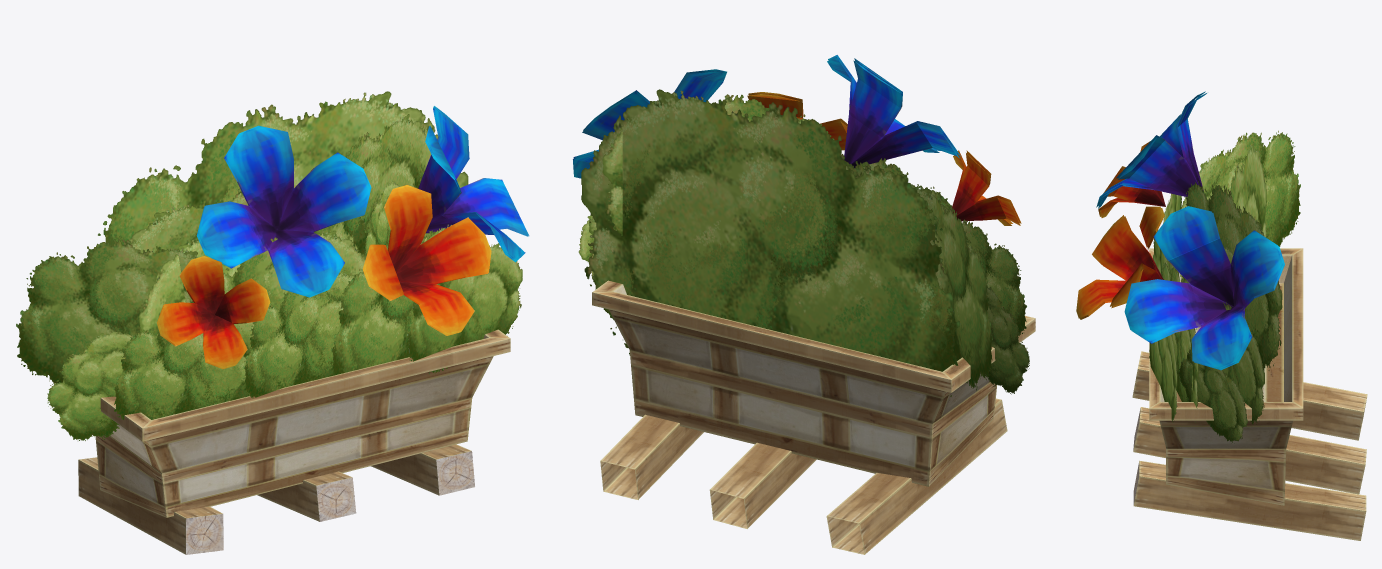
The model's file is flowerBox01.fbx.
3 renders of one model, left to right at view 1: azimuth 30°, elevation 25°; view 2: azimuth 150°, elevation 25°; view 3: azimuth 270°, elevation 25°, orthographic. The views are drawn at different scales.
Parts seen in each view (by area): view 1: polySurface1; view 2: polySurface1; view 3: polySurface1.
Boxes of the visible parts, x1,y1,x2,y2 form: polySurface1: (16, 91, 529, 554); polySurface1: (573, 55, 1035, 554); polySurface1: (1076, 91, 1367, 540).
Size of the model in its own units: 5.7 by 4.8 by 3.25.
